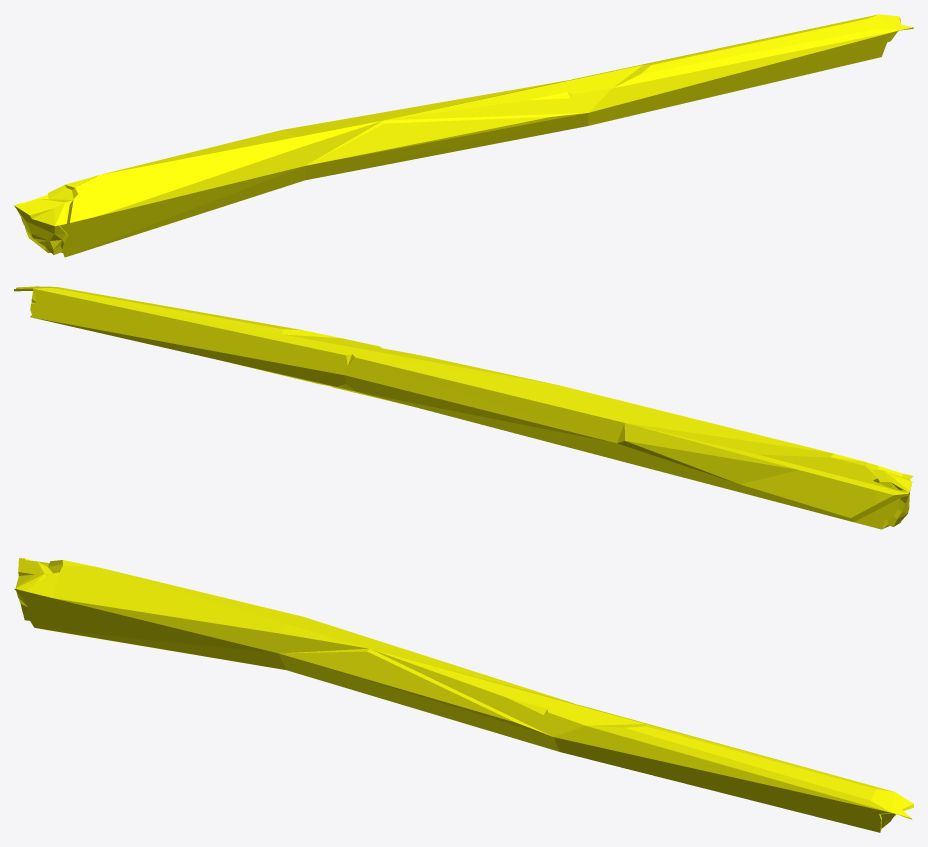
The model's file is log_a.glb.
3 renders of one model, top to bottom at view 1: azimuth 30°, elevation 25°; view 2: azimuth 150°, elevation 25°; view 3: azimuth 330°, elevation 25°, orthographic. The views are drawn at different scales.
Parts seen in each view (by area): view 1: SM_Log_01_LOD0; view 2: SM_Log_01_LOD0; view 3: SM_Log_01_LOD0.
Part boxes in pixels (x1=…): SM_Log_01_LOD0: x1=14, y1=14, x2=913, y2=257; SM_Log_01_LOD0: x1=14, y1=286, x2=913, y2=529; SM_Log_01_LOD0: x1=14, y1=558, x2=913, y2=832.
Size of the model in its own units: 5.99 by 0.4167 by 0.4277.
